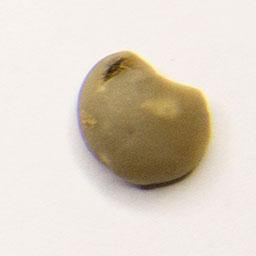defect: (68, 44, 219, 194)
